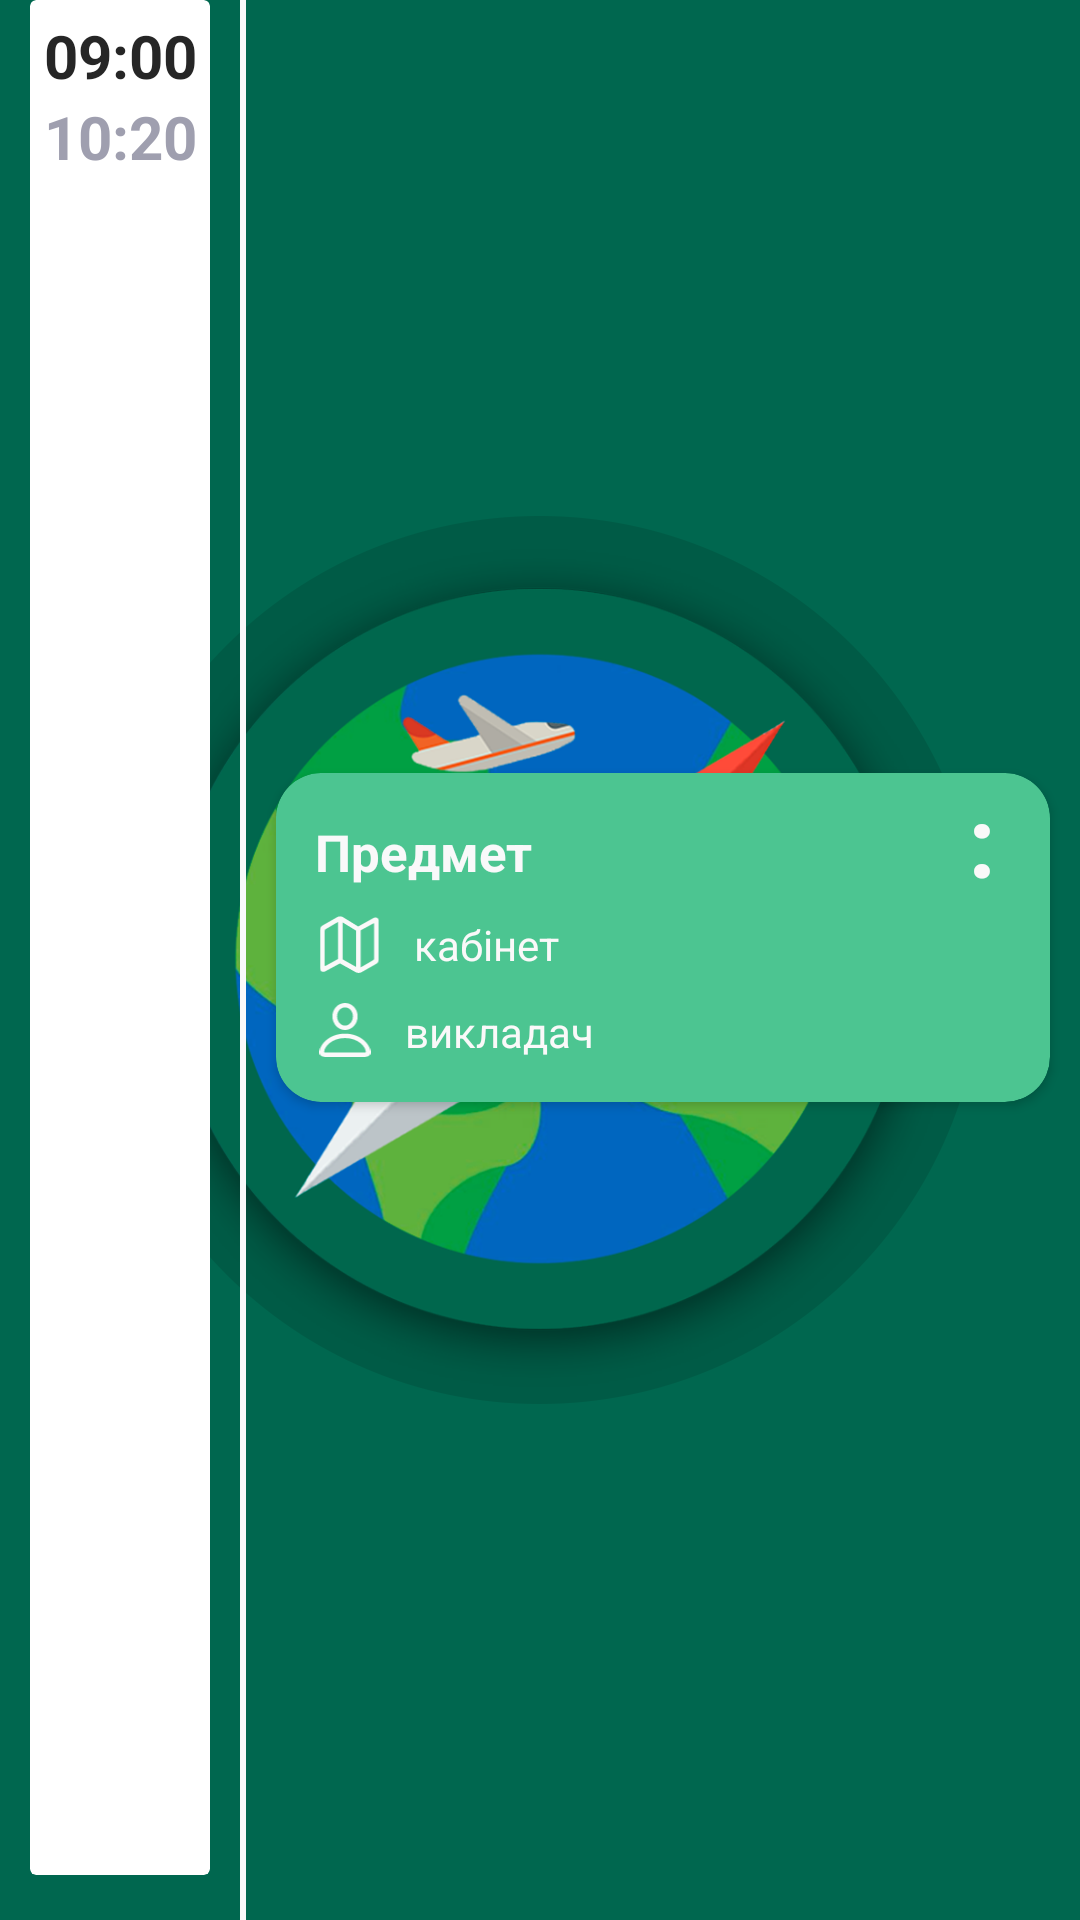

Where to tap for icons on this 1080*1920 app screen, as (x,y):
map: (349,944)
